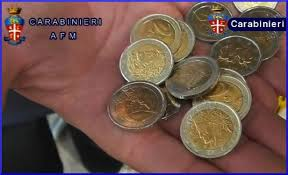eur002: (179, 100, 244, 160), (109, 80, 167, 134), (119, 41, 173, 86), (199, 75, 253, 120), (131, 14, 181, 54), (170, 56, 217, 98)
